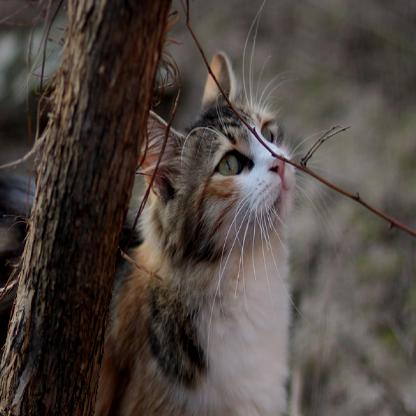cat: (100, 52, 298, 415)
